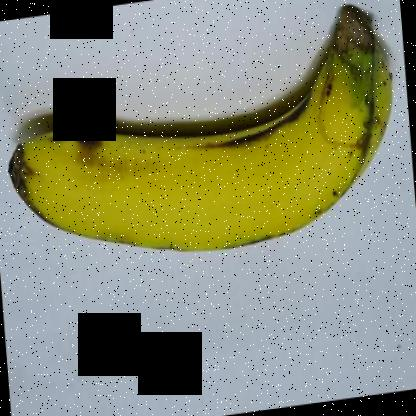freshripe: (1, 1, 394, 267)
